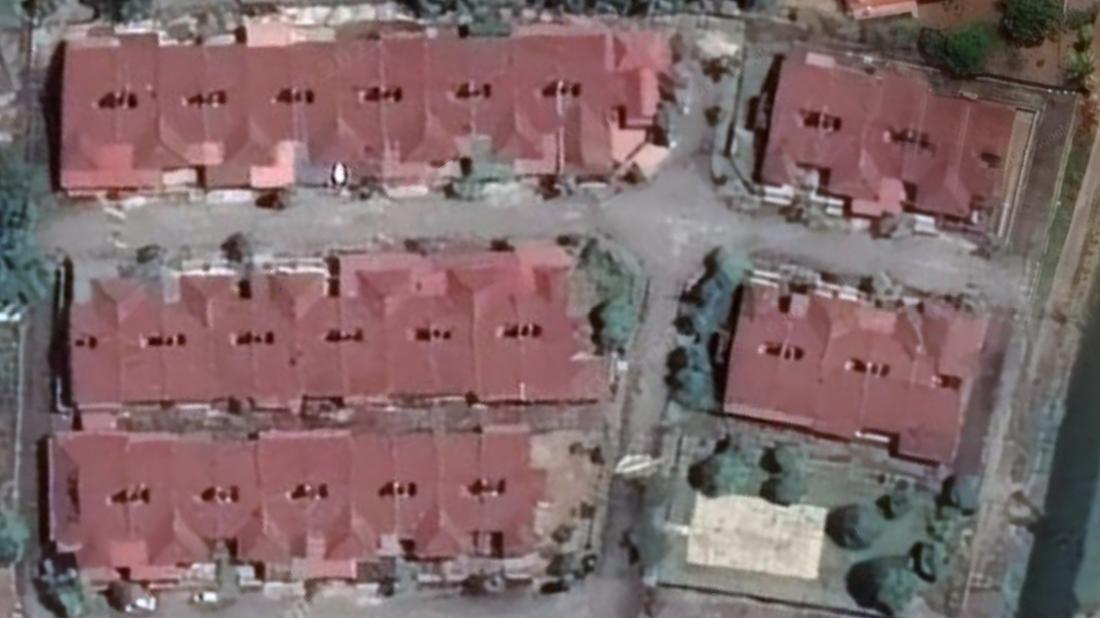building: (564, 33, 664, 180), (892, 313, 986, 466), (527, 255, 615, 402), (46, 431, 126, 583), (714, 275, 793, 425), (753, 54, 836, 195), (853, 74, 931, 215), (55, 36, 115, 194), (815, 295, 879, 441), (813, 62, 878, 204), (946, 101, 1023, 219), (860, 305, 925, 439), (771, 294, 835, 430), (472, 260, 530, 405), (65, 276, 124, 413), (483, 433, 550, 553), (115, 31, 164, 190), (910, 93, 971, 216), (129, 431, 180, 576), (249, 45, 299, 192), (338, 265, 390, 402), (379, 37, 434, 163), (510, 35, 565, 157), (253, 270, 300, 411), (334, 41, 385, 168), (159, 272, 208, 404), (115, 278, 167, 402), (385, 270, 432, 403), (430, 261, 475, 397), (296, 271, 344, 398), (472, 35, 519, 163), (207, 268, 252, 400), (215, 434, 260, 564), (207, 43, 247, 187), (162, 42, 206, 172), (439, 432, 484, 559), (295, 39, 340, 166), (392, 432, 437, 558), (263, 431, 305, 565), (350, 433, 394, 560), (307, 431, 350, 558), (434, 38, 473, 165), (178, 432, 213, 562)
